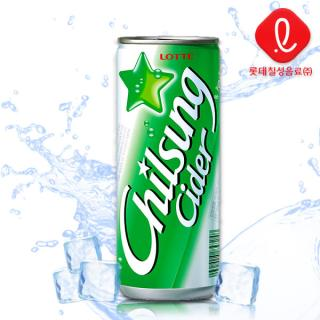cocacola: (113, 34, 224, 304)
